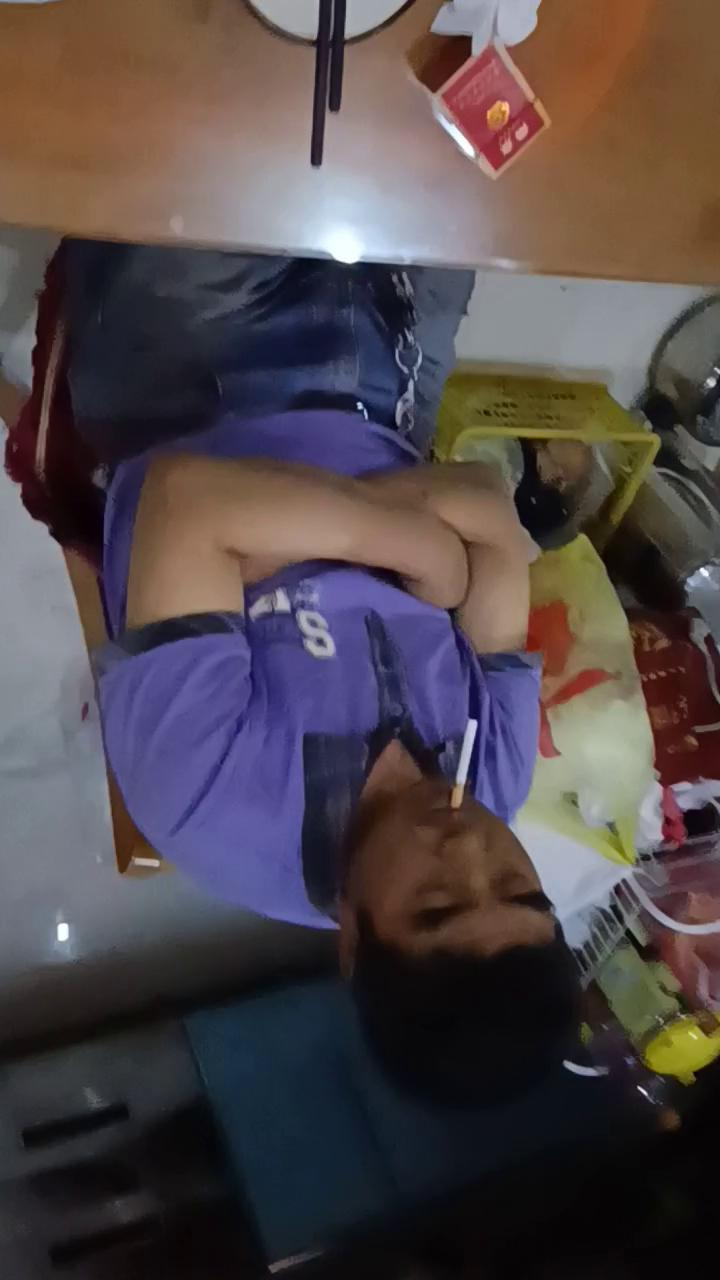smoke: (449, 719, 479, 810)
